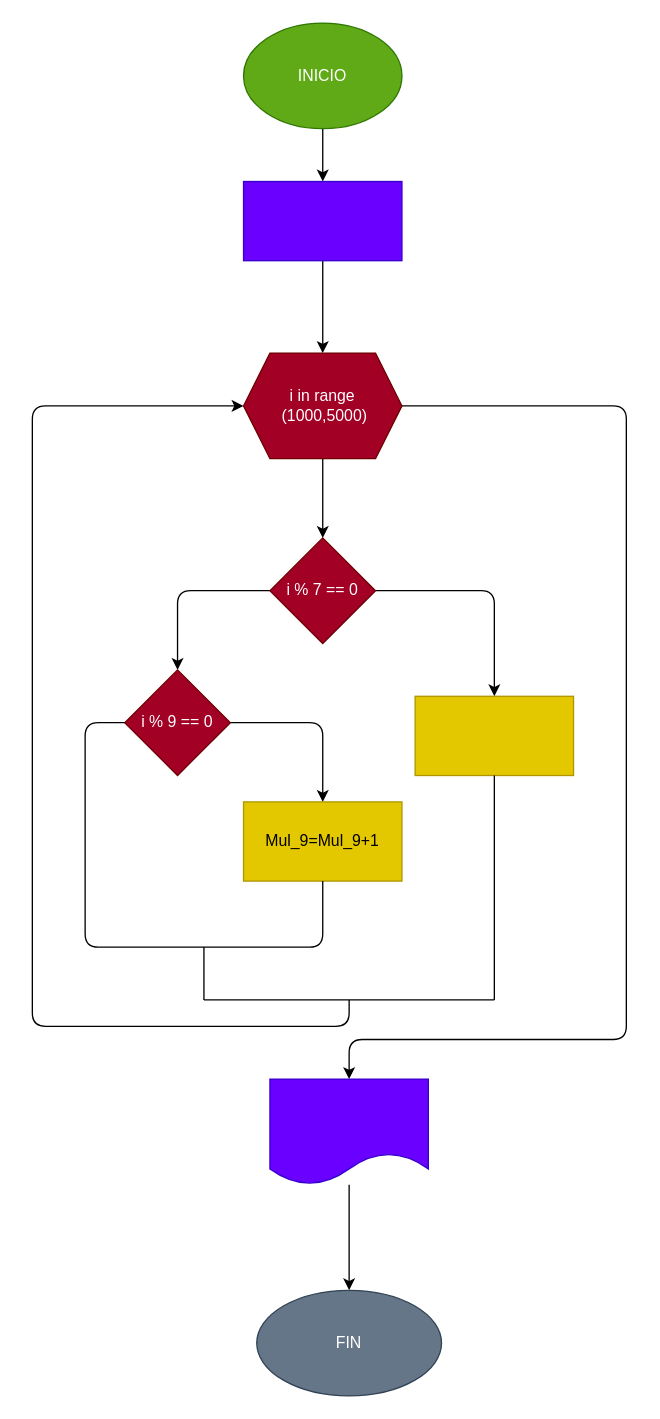
The diagram is 660 pixels wide and 1419 high, and some of its shapes have lost their labels. Here are the shapes that lost their labels. From the top down, the box of each, then its label:
(242, 180, 402, 261): Mul_7=0 Mul_9=0
(414, 695, 574, 776): Mul_7=Mul_7+1
(269, 1078, 428, 1185): Los multiplos de 7 y 9 son:
